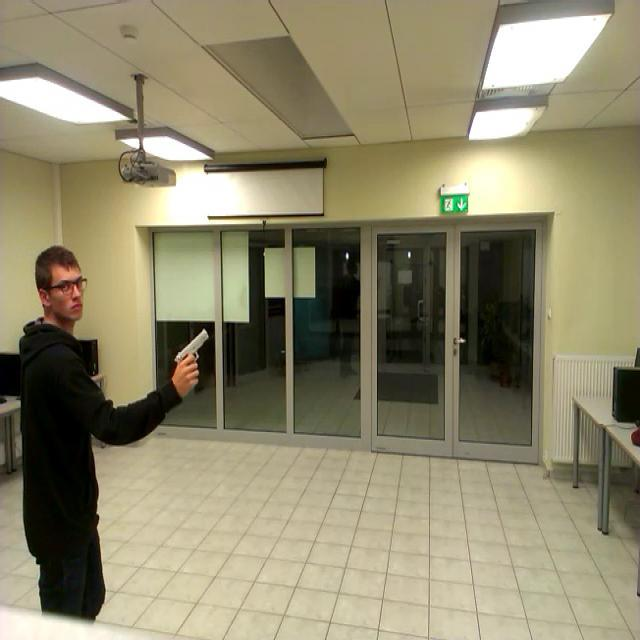Gun: (173, 328, 208, 380)
